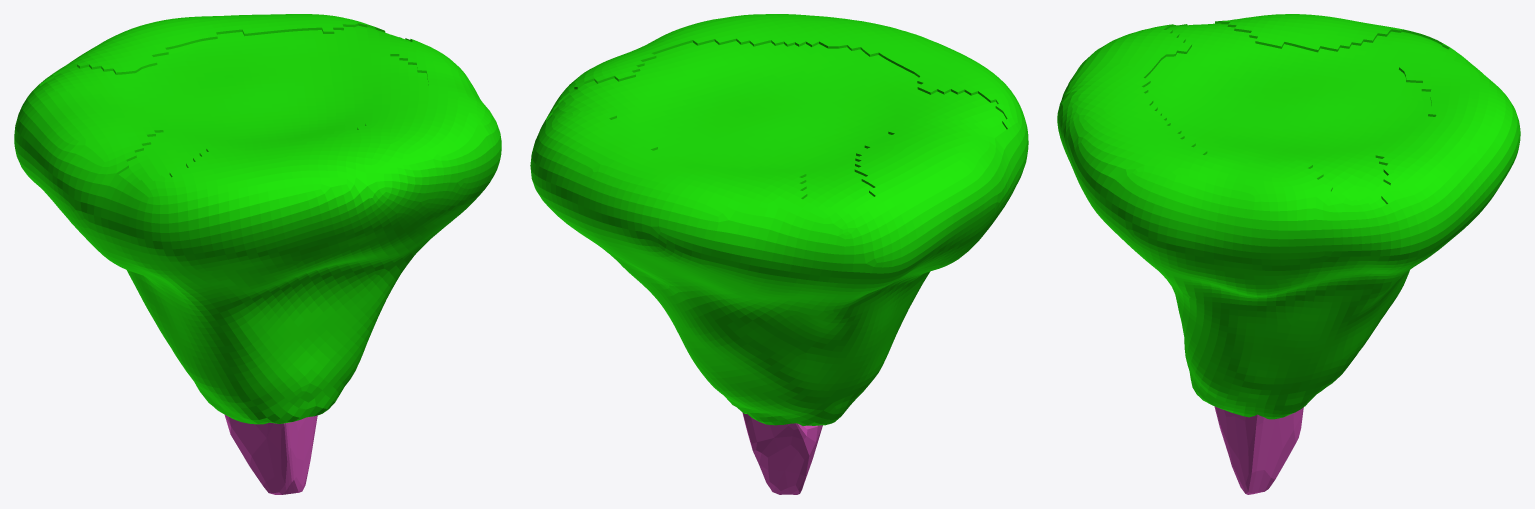
The model's file is MainIsland.fbx.
The picture shows the model from 3 angles, left to right: view 1: azimuth 30°, elevation 25°; view 2: azimuth 150°, elevation 25°; view 3: azimuth 270°, elevation 25°; orthographic projection. The views are drawn at different scales.
Parts seen in each view (by area): view 1: MainIsland; view 2: MainIsland; view 3: MainIsland.
Boxes of the visible parts, bbox=[...] form: MainIsland: bbox=[14, 14, 501, 494]; MainIsland: bbox=[530, 14, 1028, 494]; MainIsland: bbox=[1057, 14, 1520, 494].
Bounding box in the file's own units: 850 × 800 × 845.
